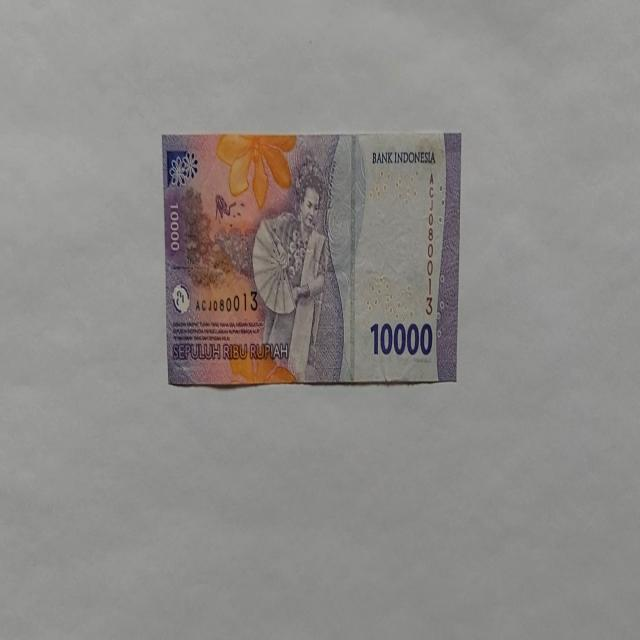sepuluh ribu rupiah: (161, 130, 461, 388), (368, 318, 434, 358)
